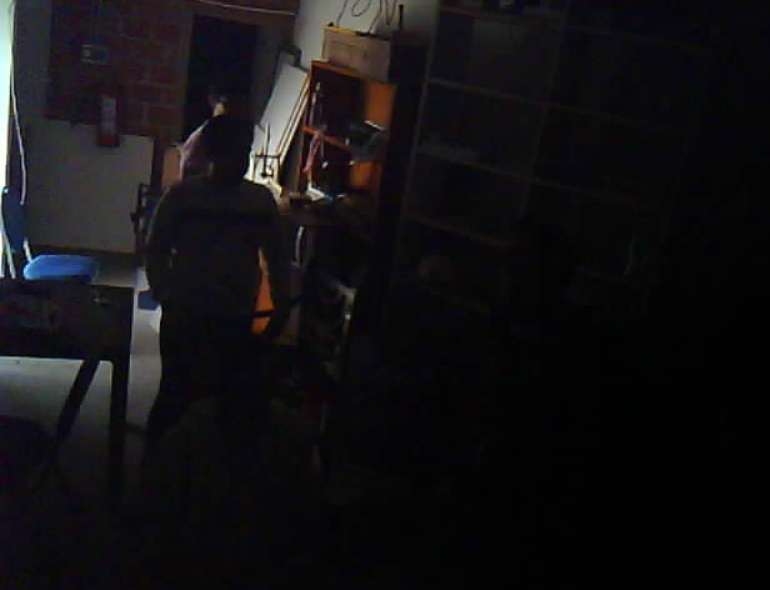person: (127, 116, 309, 510)
